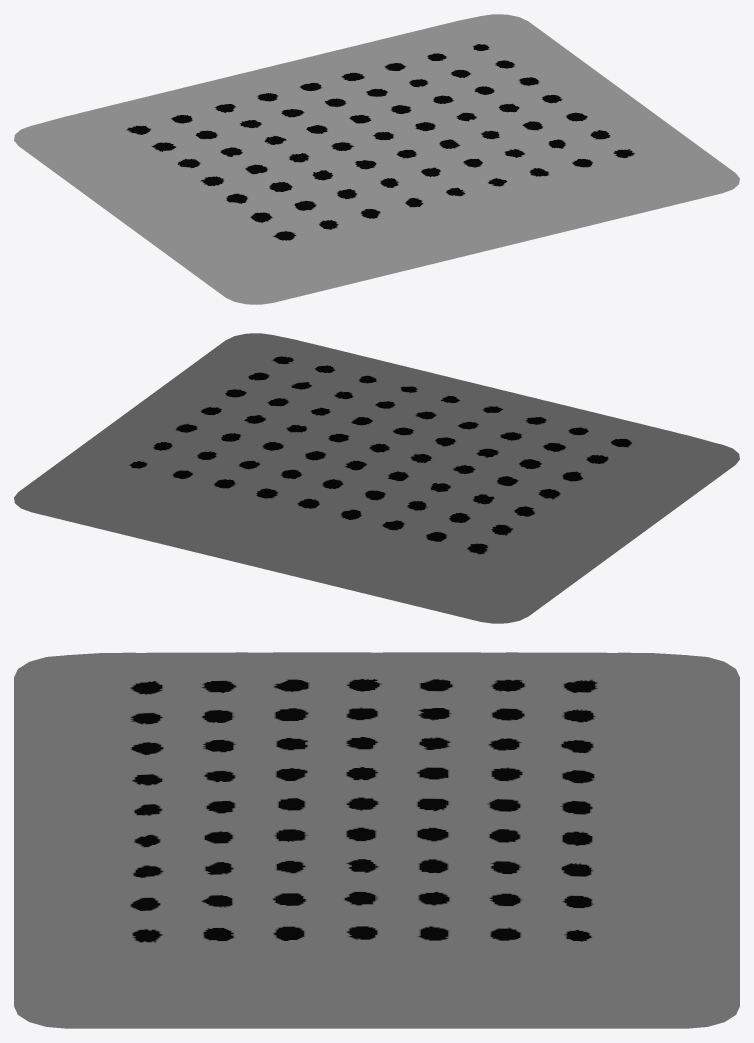
The model's file is surface_texture_refract_marker.obj.
The picture shows the model from 3 angles, top to bottom: view 1: azimuth 30°, elevation 25°; view 2: azimuth 150°, elevation 25°; view 3: azimuth 270°, elevation 25°; orthographic projection. The views are drawn at different scales.
Visible parts, largest first — view 1: surface_texture; view 2: surface_texture; view 3: surface_texture.
Boxes of the visible parts, bbox=[...] form: surface_texture: bbox=[14, 14, 739, 304]; surface_texture: bbox=[14, 333, 739, 623]; surface_texture: bbox=[14, 652, 739, 1028].
Bounding box in the file's own units: 25.25 × 1.25 × 20.75.
Materials: 1 (1 with a texture image).
